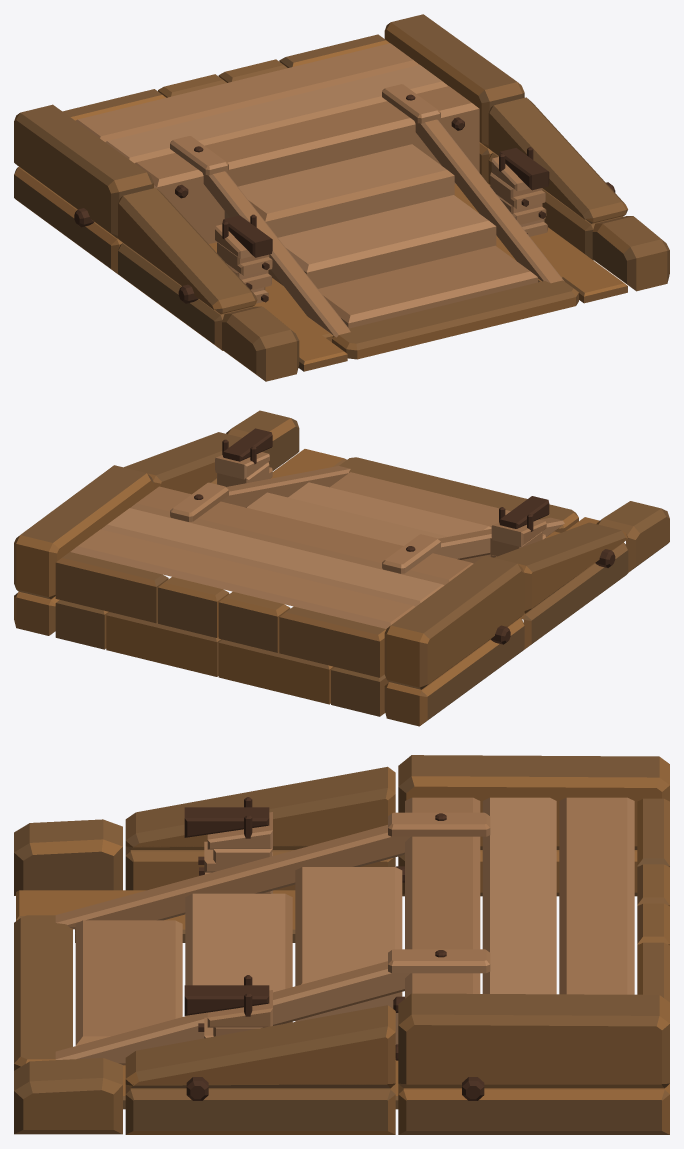
File: modular-doorstep-bridge-df54e1.glb
3 renders of one model, top to bottom at view 1: azimuth 30°, elevation 25°; view 2: azimuth 150°, elevation 25°; view 3: azimuth 270°, elevation 25°, orthographic. The views are drawn at different scales.
Parts seen in each view (by area): view 1: doorstep-body, wedge-l-mesh, wedge-r-mesh; view 2: doorstep-body, wedge-r-mesh, wedge-l-mesh; view 3: doorstep-body, wedge-r-mesh, wedge-l-mesh.
Part boxes in pixels (x1,y1,x2,y2): doorstep-body: [14, 14, 669, 381]; wedge-l-mesh: [222, 215, 272, 257]; wedge-r-mesh: [499, 148, 549, 190]; doorstep-body: [14, 410, 669, 726]; wedge-r-mesh: [222, 428, 272, 461]; wedge-l-mesh: [499, 496, 549, 528]; doorstep-body: [14, 755, 669, 1134]; wedge-r-mesh: [184, 985, 269, 1015]; wedge-l-mesh: [184, 807, 269, 837].
Size of the model in its own units: 1 by 0.205 by 1.
